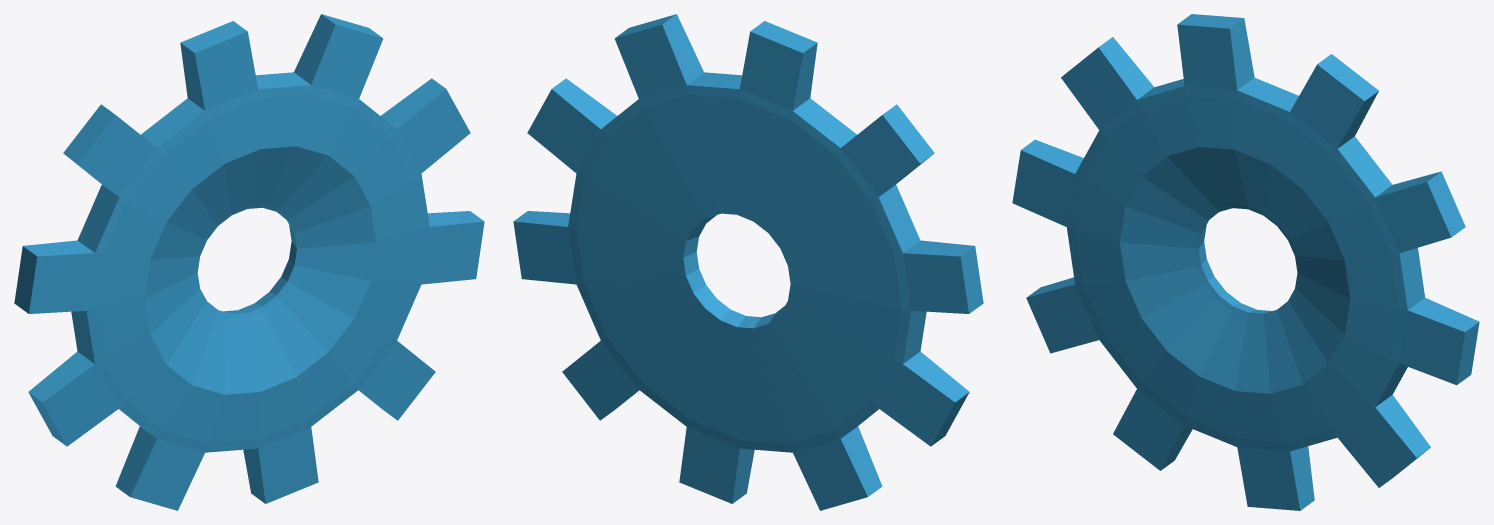
File: Gear_Diam_01_Size_2.fbx
3 views of the same model, side by side, from view 1: azimuth 30°, elevation 25°; view 2: azimuth 150°, elevation 25°; view 3: azimuth 330°, elevation 25° (orthographic).
Visible parts, largest first — view 1: Gear_Diam_01_Size_2; view 2: Gear_Diam_01_Size_2; view 3: Gear_Diam_01_Size_2.
Boxes of the visible parts, box(x1,y1,x2,y2) form: Gear_Diam_01_Size_2: box(14, 14, 484, 510); Gear_Diam_01_Size_2: box(513, 14, 983, 510); Gear_Diam_01_Size_2: box(1012, 14, 1479, 510).
Size of the model in its own units: 14.73 by 14.73 by 1.26.
